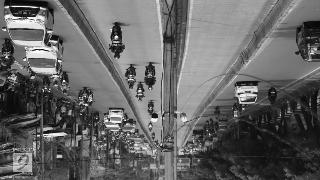mobil: (234, 81, 258, 105), (108, 106, 122, 122)
motor: (106, 21, 126, 59), (0, 38, 18, 72), (142, 61, 158, 89), (124, 64, 136, 90), (266, 86, 278, 106), (80, 85, 92, 105), (60, 70, 70, 93), (135, 82, 145, 102), (41, 75, 50, 97), (146, 99, 156, 117), (211, 105, 221, 121)
